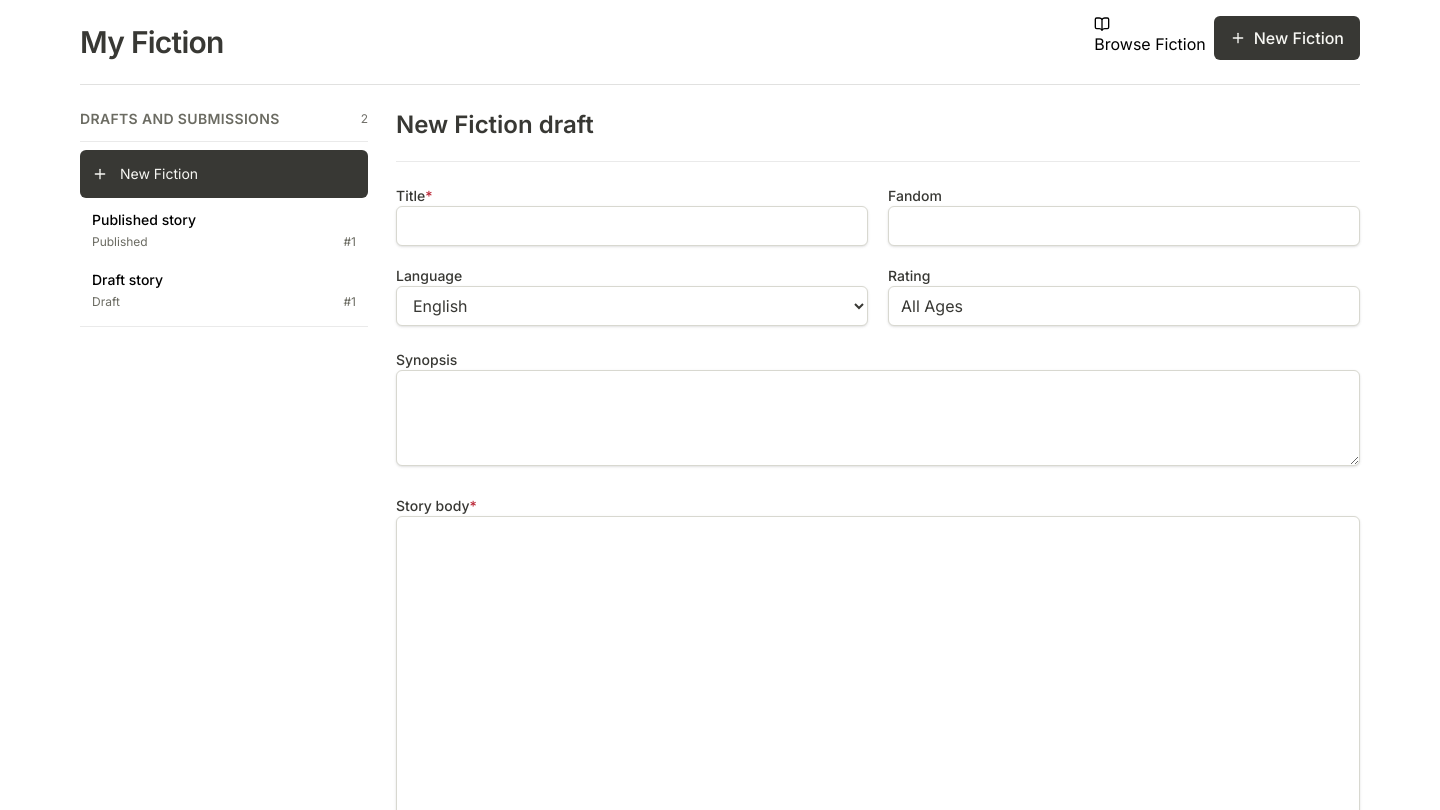
Test case: FictionWorkspacePage › keeps published Fiction read-only and offers a replacement draft instead of direct publish
Step 1. Click the button "Published story Published #1" → (144, 220), box [80,202,368,258]
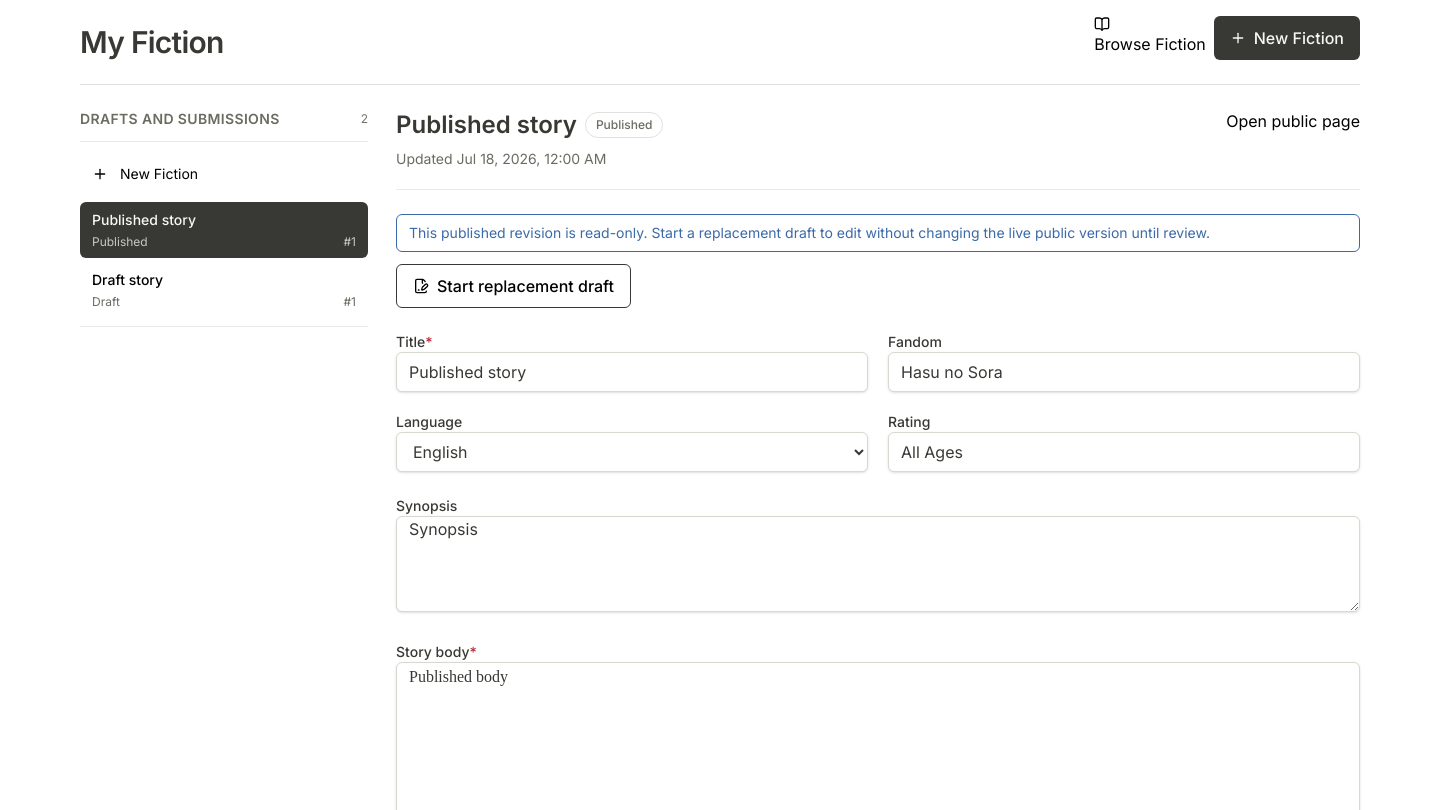
Expected: the text "published revision is read-only" is shown, [409,224,1210,241]
Expected: the button "Start replacement draft" is shown, [396,264,631,308]
Expected: the link "Open public page" is shown, [1226,109,1360,133]
